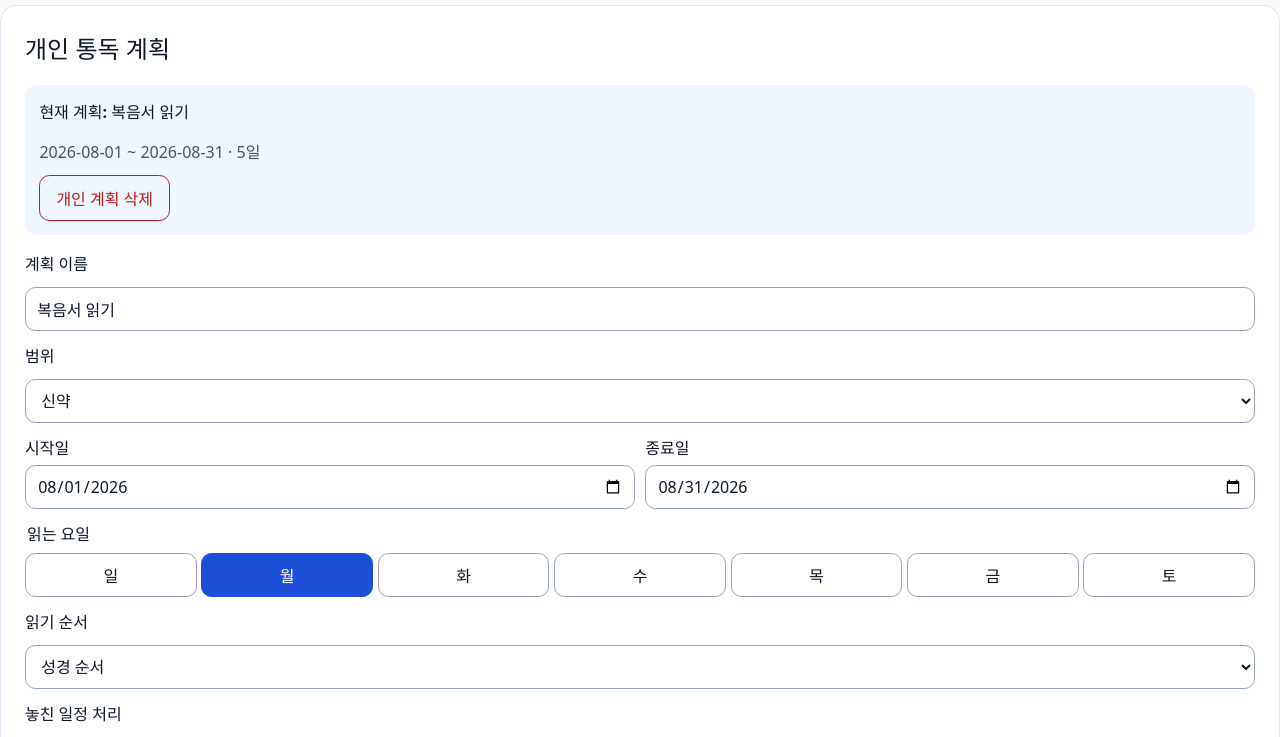
Scenario: PlanSettingsPage › 빈 책·요일과 잘못된 날짜 오류를 각각의 필드에 연결한다
This screenshot has width=1280, height=737.
(page scrolled)
Step 1. Select "특정 책" in the dropdown labelled "범위" → {"x": 640, "y": 401}, box [25, 379, 1255, 423]
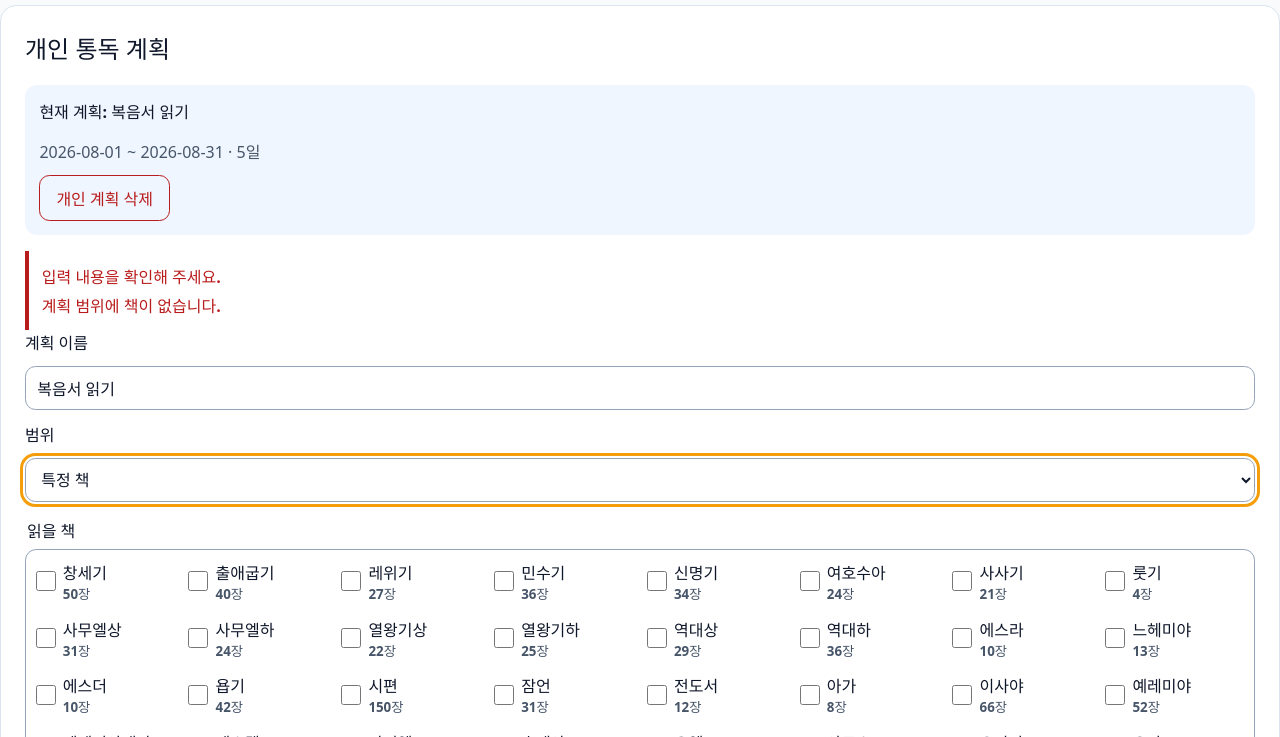
Step 2. Select "전체 성경" in the dropdown labelled "범위" → {"x": 640, "y": 480}, box [25, 458, 1255, 502]
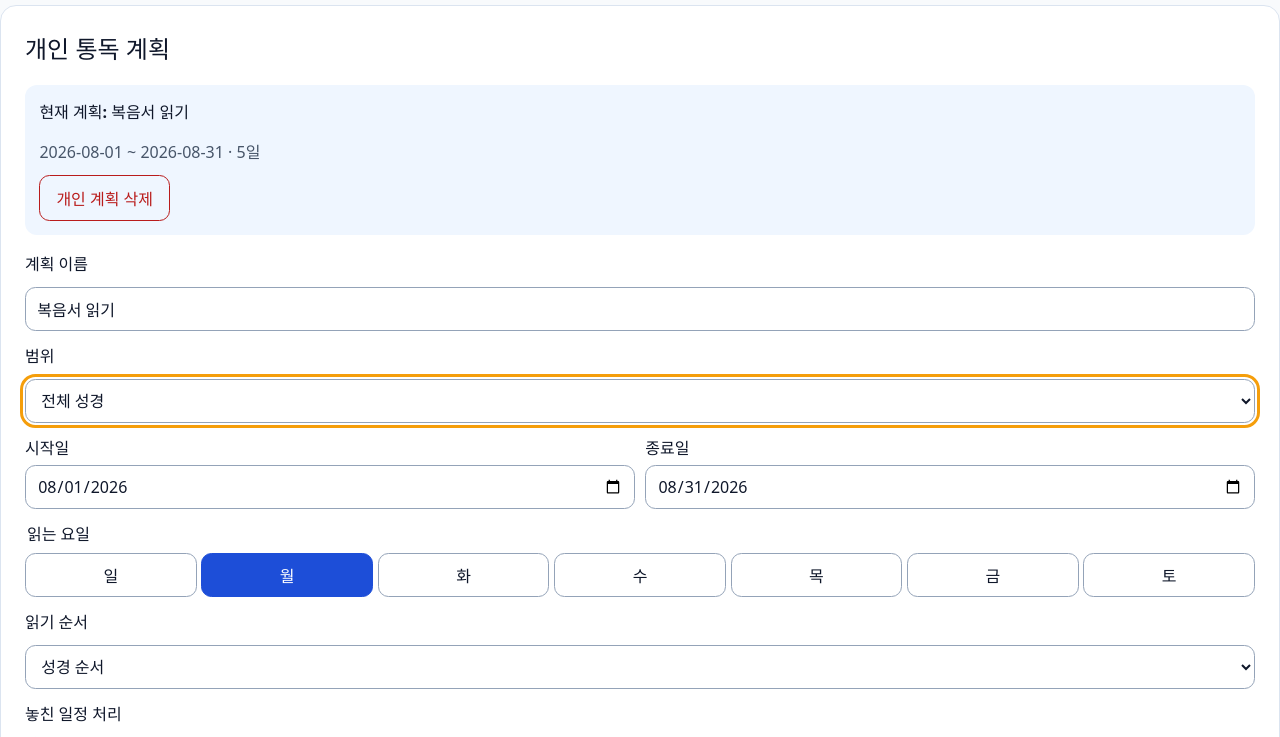
Step 3. Click the button "월" → {"x": 287, "y": 574}, box [201, 552, 373, 596]
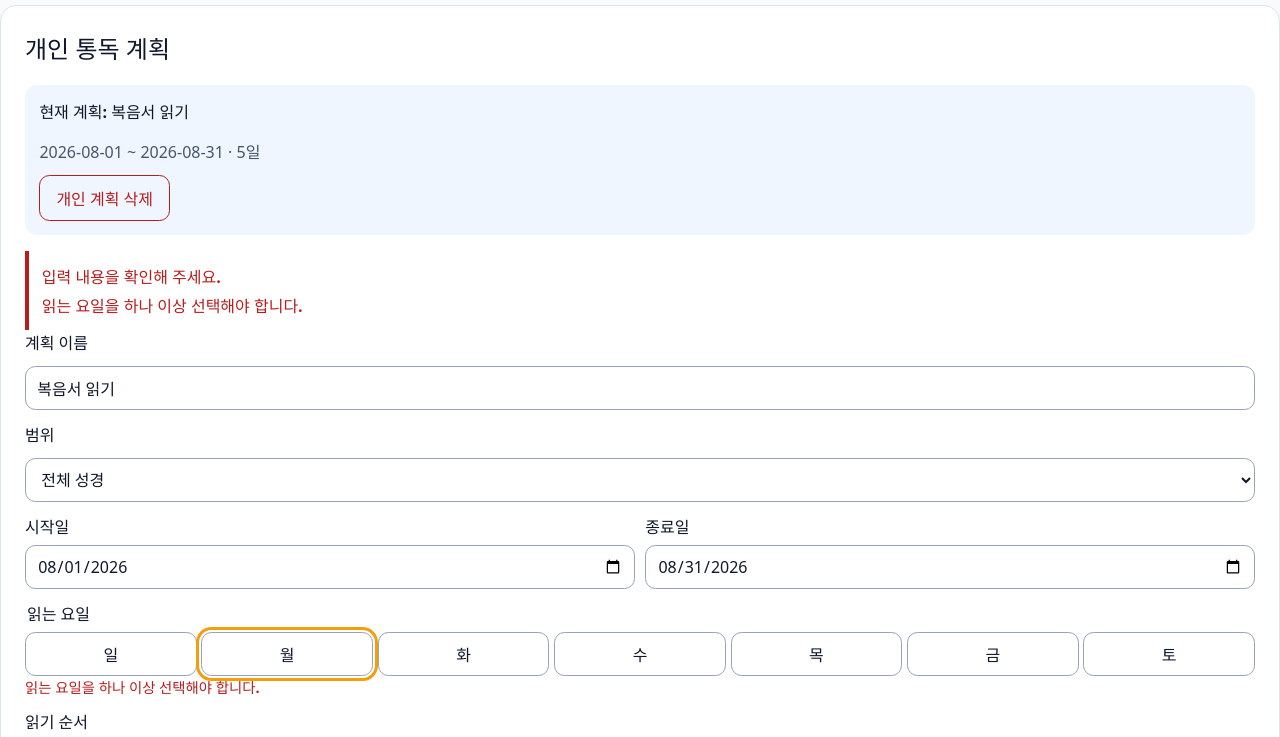
Expected: the text "읽는 요일을 하나 이상 선택해야 합니다." below "종료일" is shown, [25, 678, 260, 697]
Step 4. Click the button "월" → {"x": 287, "y": 654}, box [201, 632, 373, 676]
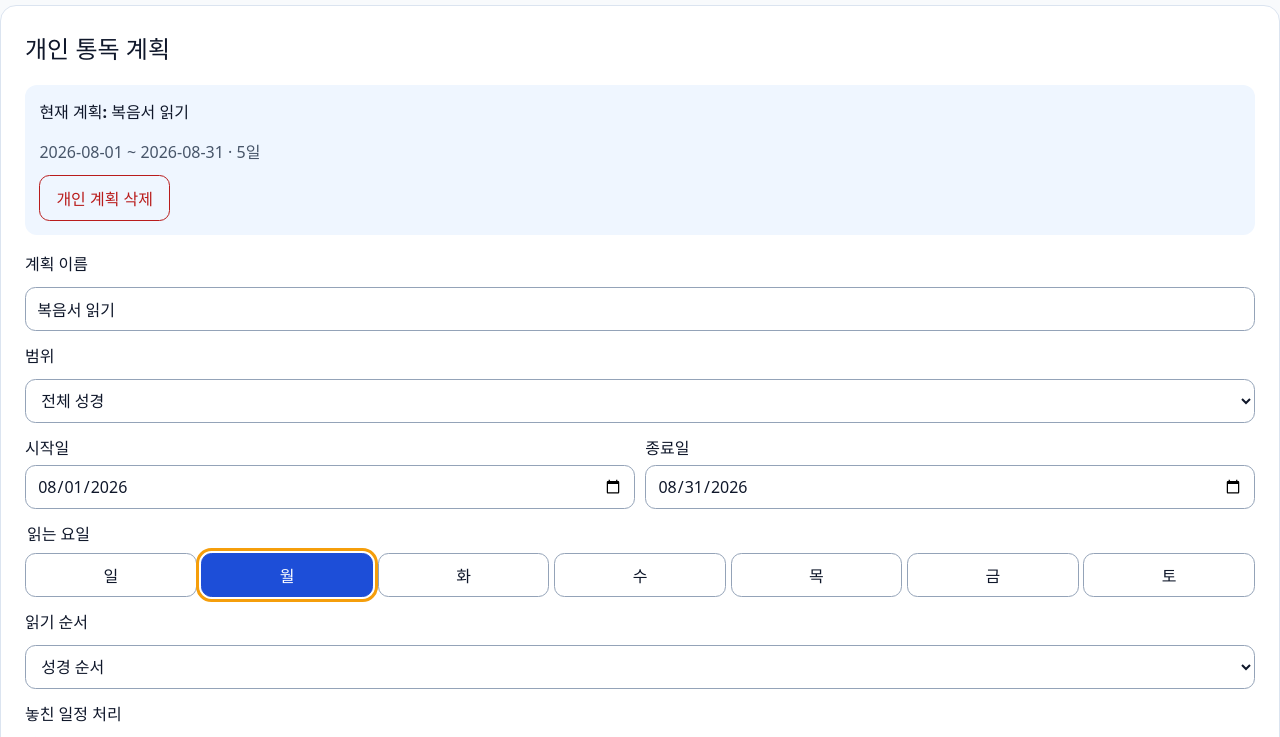
Step 5. Clear the date field labelled "종료일" → {"x": 950, "y": 487}, box [645, 465, 1255, 509]
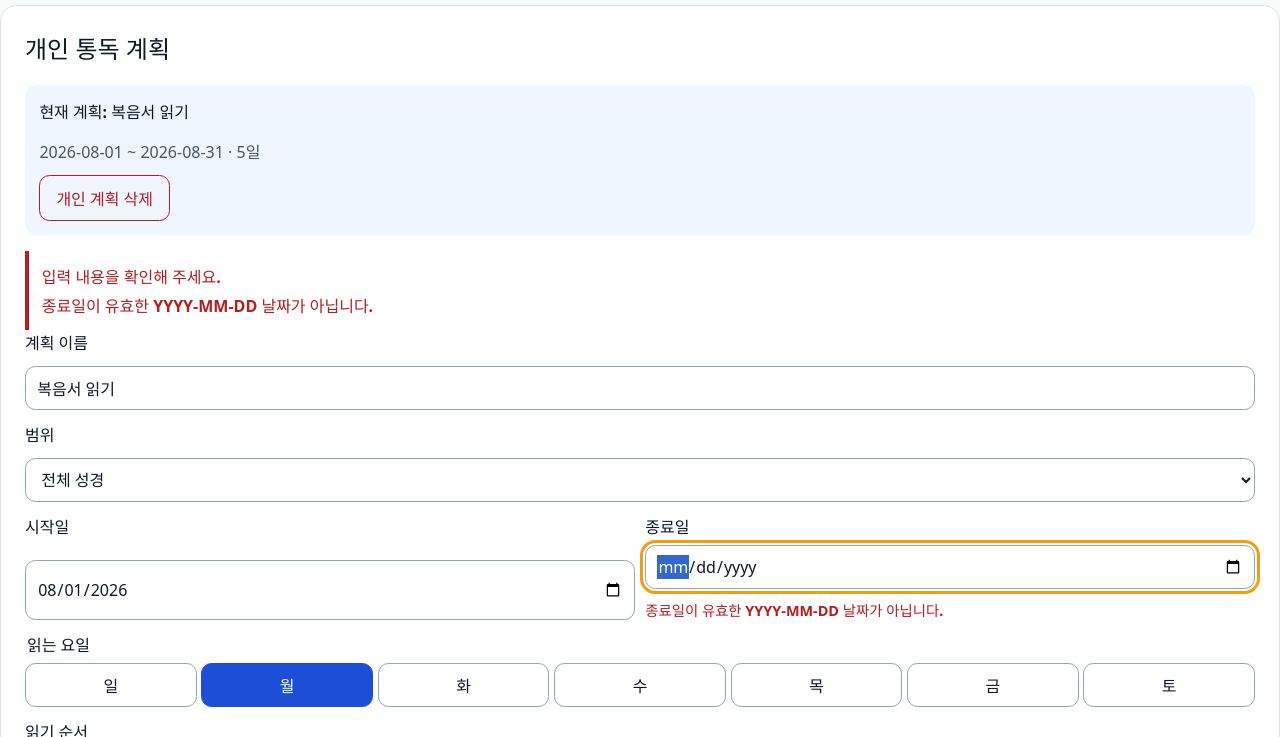
Expected: the 2nd text "종료일이 유효한 YYYY-MM-DD 날짜가 아닙니다." is shown, [645, 601, 943, 620]
Step 6. Type "2026-07-31" into the date field labelled "종료일" → {"x": 950, "y": 566}, box [645, 544, 1255, 588]
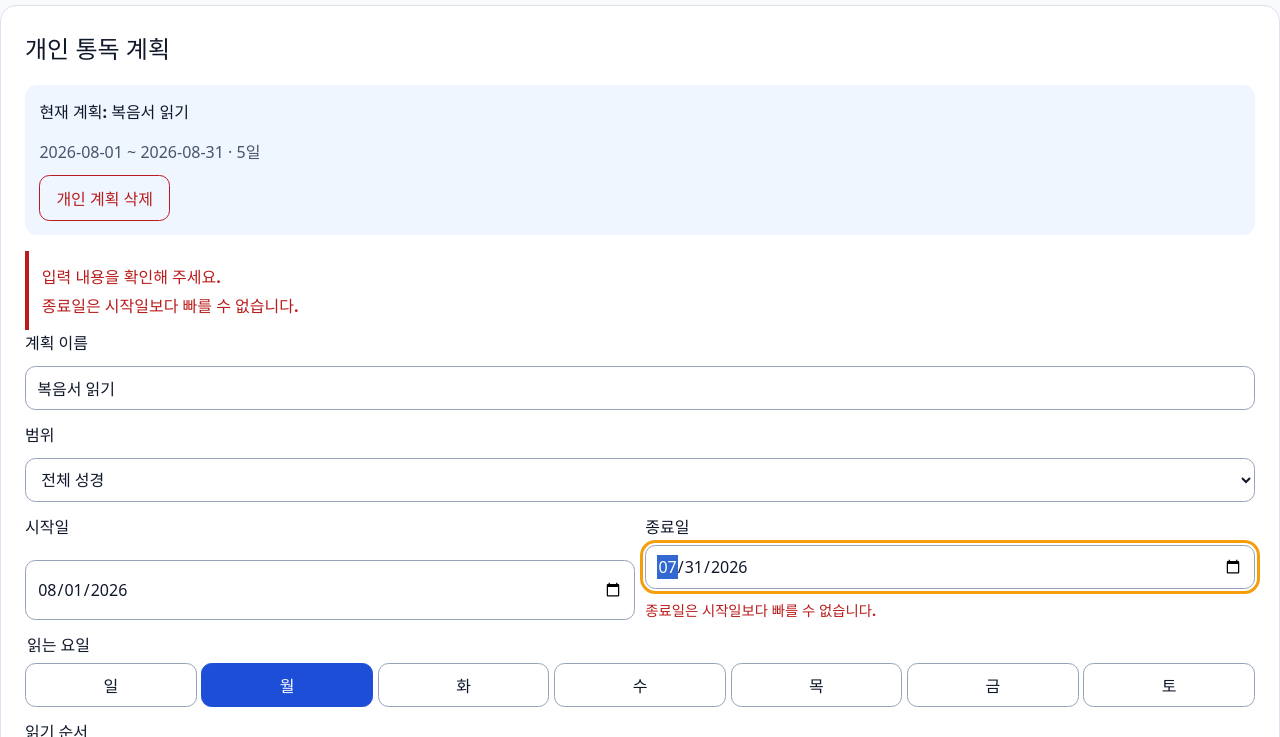
Expected: the 2nd text "종료일은 시작일보다 빠를 수 없습니다." is shown, [645, 601, 876, 620]
